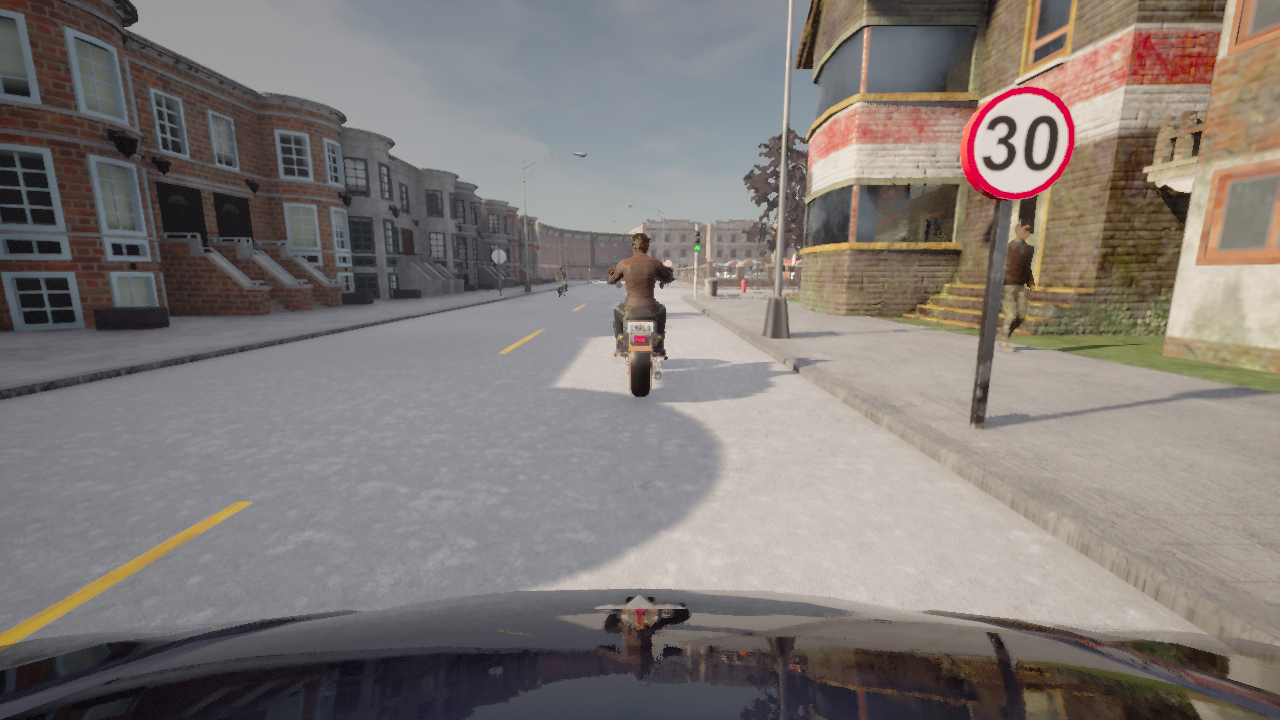cyclist: (0, 588, 1279, 719), (607, 268, 672, 397), (551, 274, 566, 298)
pedestrian: (995, 220, 1035, 352)
